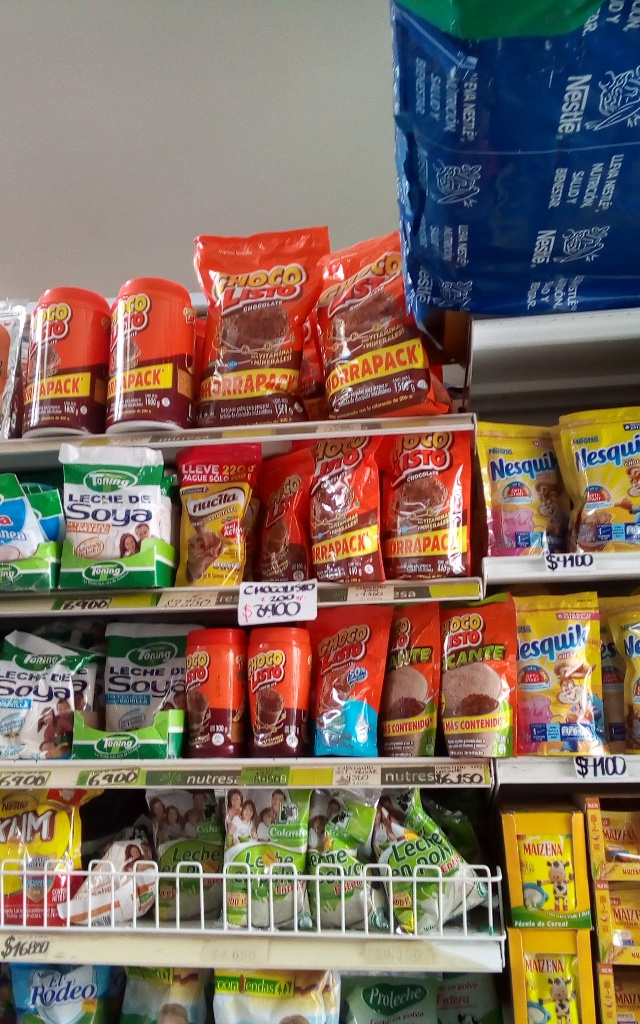COL0170103DYP44000: (305, 439, 391, 584)
COL0170103TRR00100: (107, 276, 195, 431)
COL0170104DYP20000: (312, 609, 383, 754)
COL0170303DYP20000: (559, 414, 637, 555)
